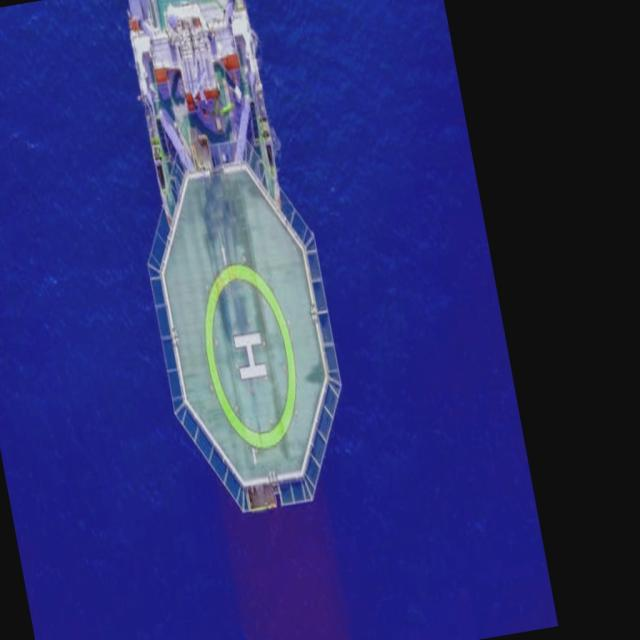helipad: (198, 258, 300, 451)
